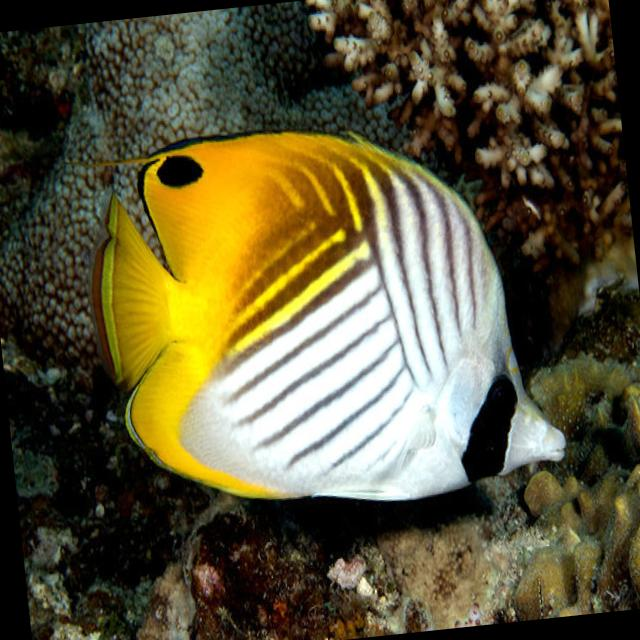ButterflyFish: (81, 102, 568, 532)
